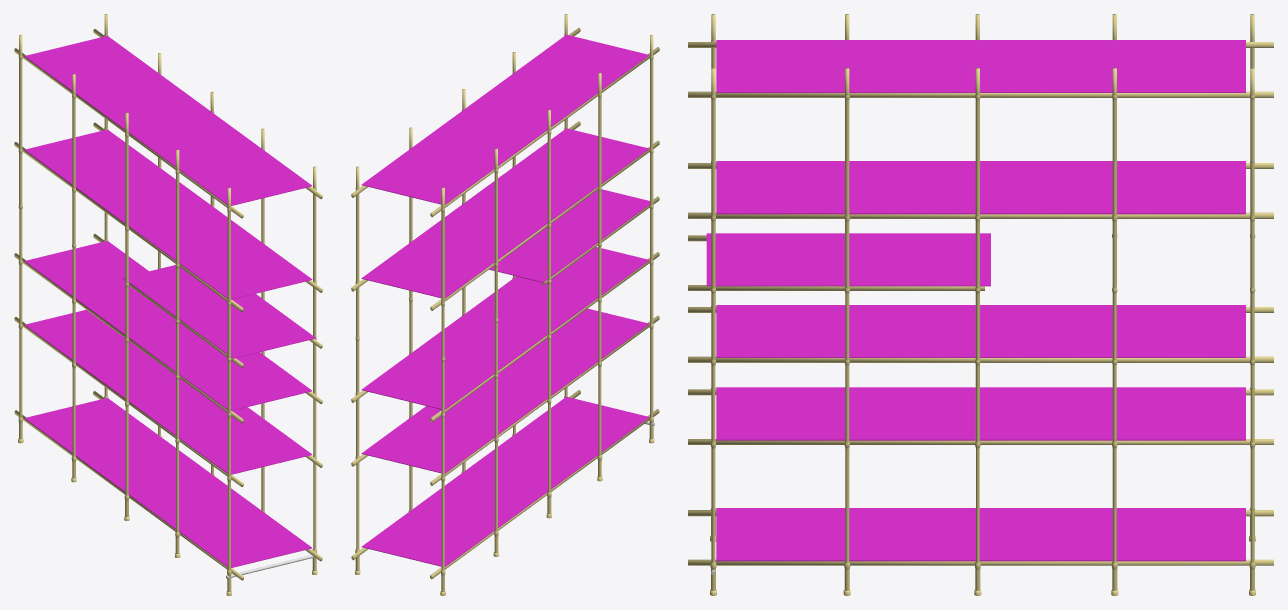
File: raf.fbx
3 views of the same model, side by side, from view 1: azimuth 30°, elevation 25°; view 2: azimuth 150°, elevation 25°; view 3: azimuth 270°, elevation 25° (orthographic). The views are drawn at different scales.
Parts seen in each view (by area): view 1: Plane, Circle.002; view 2: Plane, Circle.002; view 3: Plane, Circle.002.
Boxes of the visible parts, bbox=[...] form: Plane: bbox=[24, 36, 315, 567]; Circle.002: bbox=[14, 14, 322, 595]; Plane: bbox=[361, 34, 649, 566]; Circle.002: bbox=[351, 14, 659, 595]; Plane: bbox=[706, 40, 1245, 561]; Circle.002: bbox=[688, 14, 1273, 595].
Size of the model in its own units: 111 by 472 by 477.
